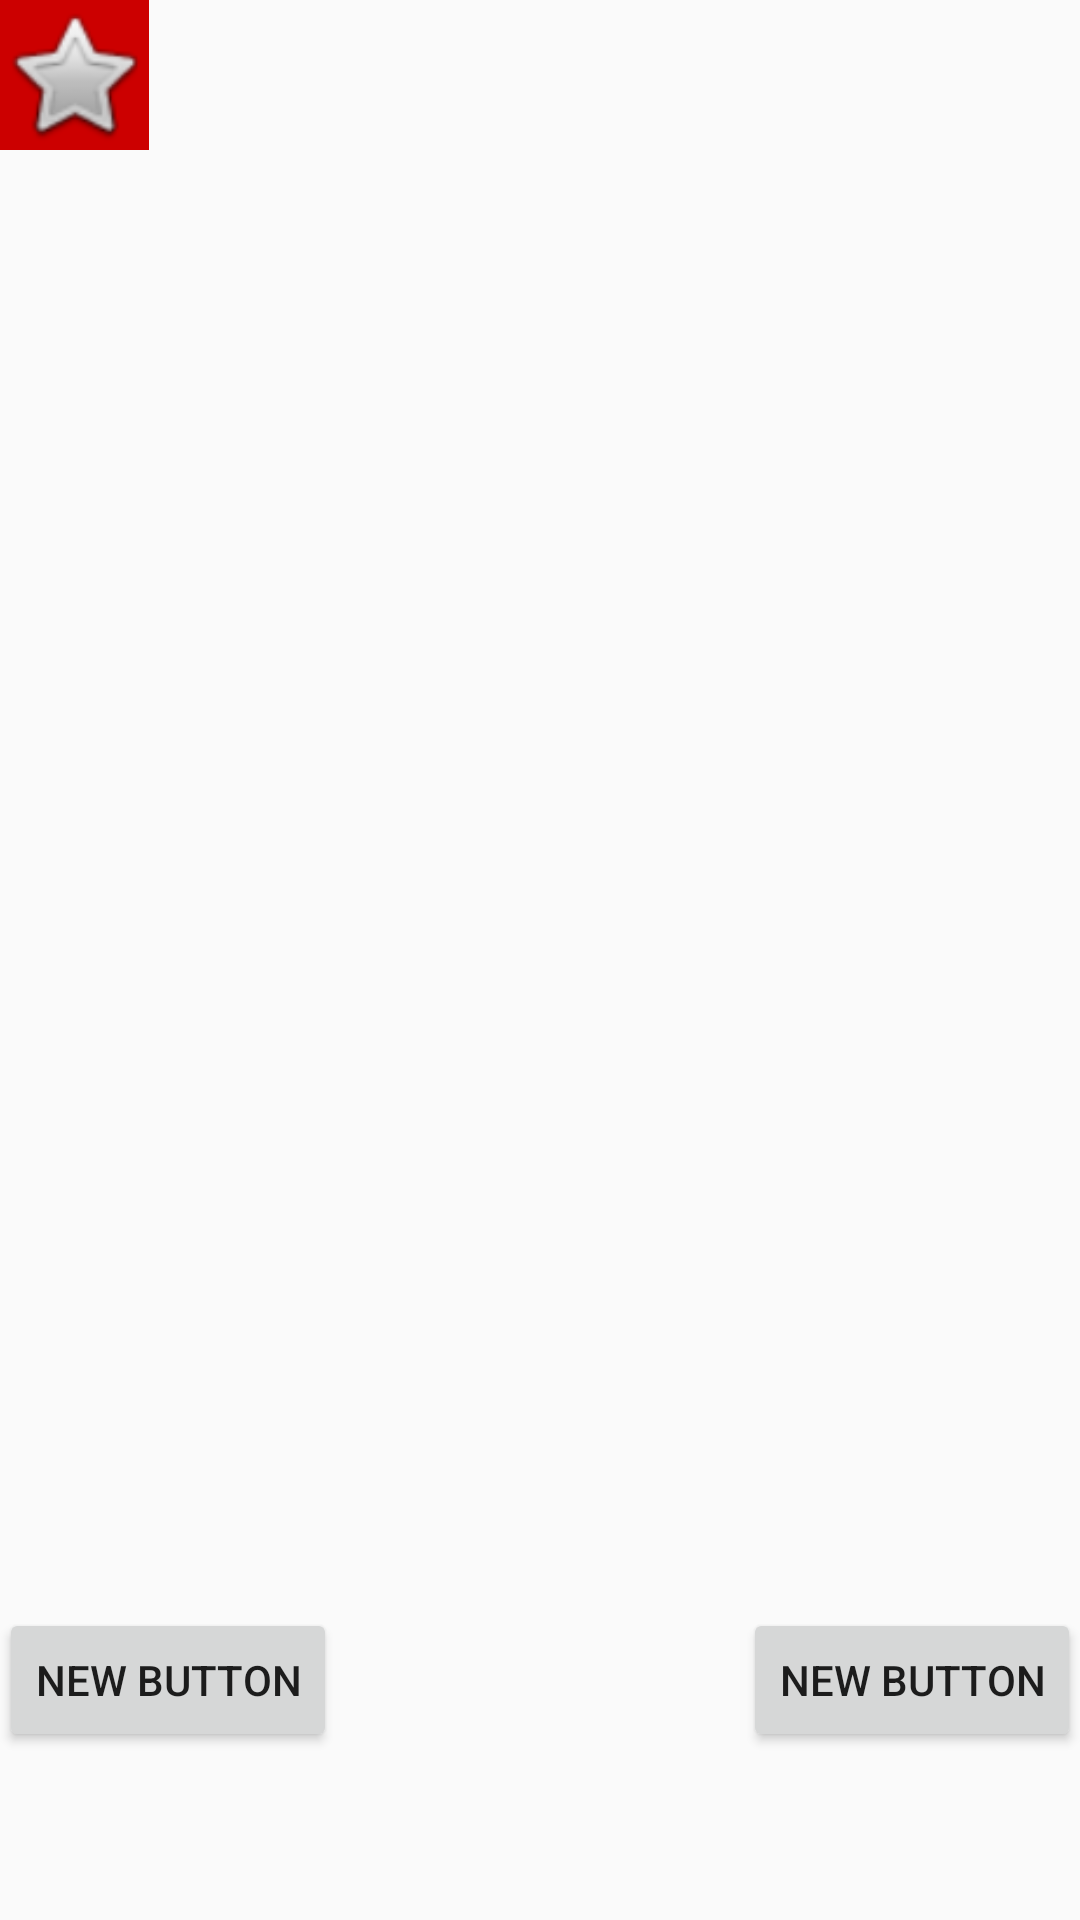

Screen size 1080w x 1920h. Icon name, then its center in pixels as (x=x, y=y):
star: (x=74, y=75)
